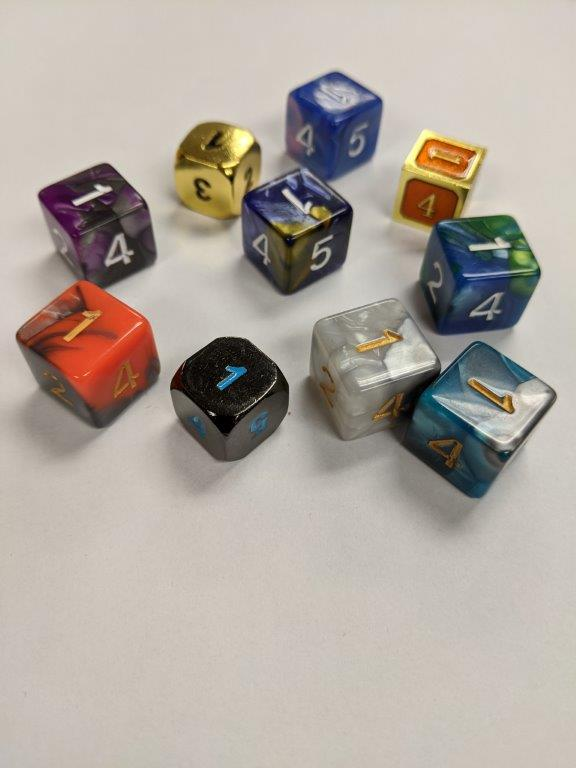d6-1: (410, 341, 556, 498), (17, 279, 160, 429), (308, 295, 441, 445), (167, 336, 292, 462), (36, 164, 160, 288), (415, 217, 542, 335), (244, 166, 354, 295), (284, 71, 384, 180), (395, 129, 489, 222), (175, 123, 263, 219)
